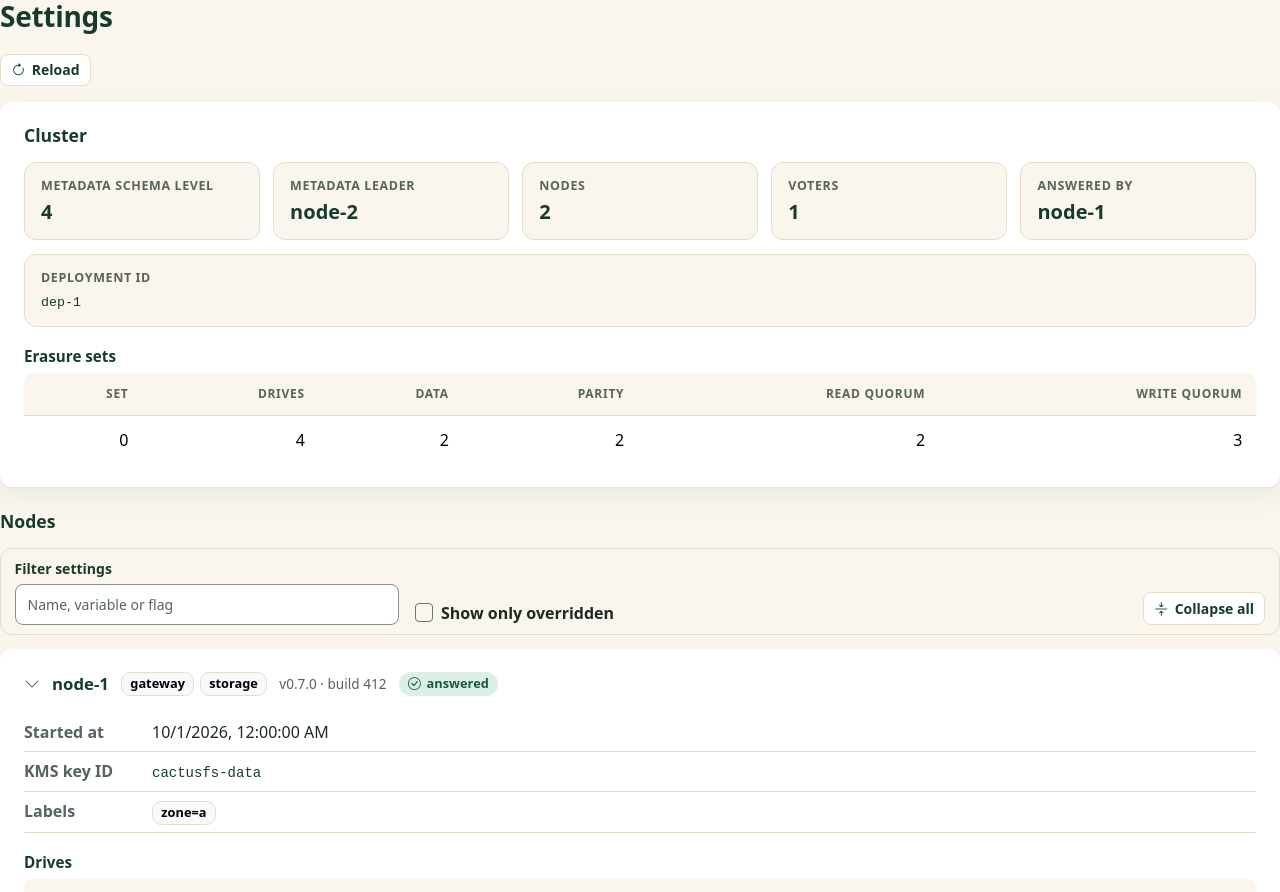
Test: settings › warns of the settings in which the nodes differ, and only when there are some
Expected: the element "Cluster" is shown, top-left (0, 102), bottom-right (1279, 487)
Expected: the heading "Mismatches" is not shown
Click the button "Reload". click: [46, 70]
box: top-left (0, 54), bottom-right (91, 86)
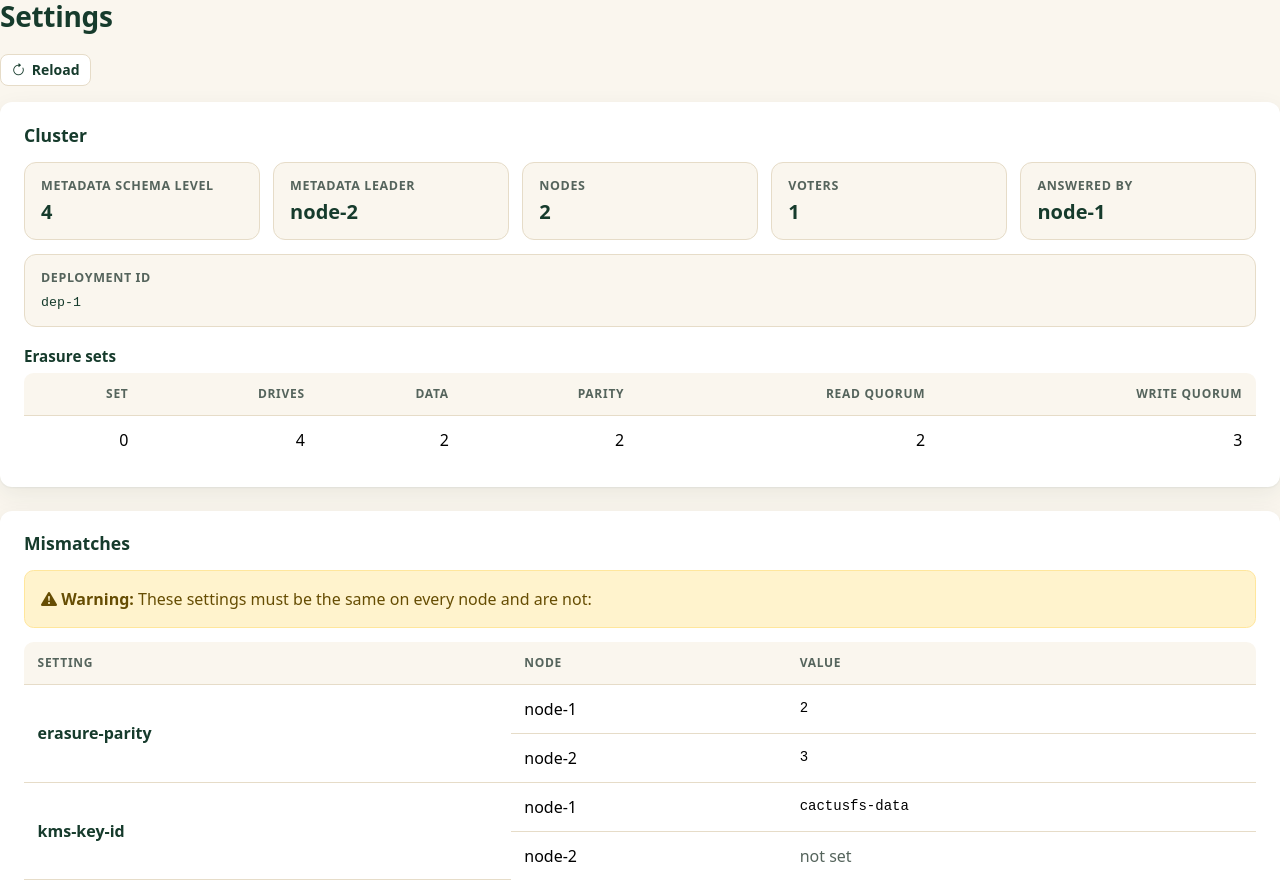
Now the element "Mismatches" shows "Warning:", box top-left (61, 588), bottom-right (134, 610)
Now the element "Mismatches" shows "These settings must be the same on every node and are not:", box top-left (134, 588), bottom-right (592, 610)
Now the text "node-1" in the row of "erasure-parity" is shown, box top-left (524, 698), bottom-right (577, 720)
